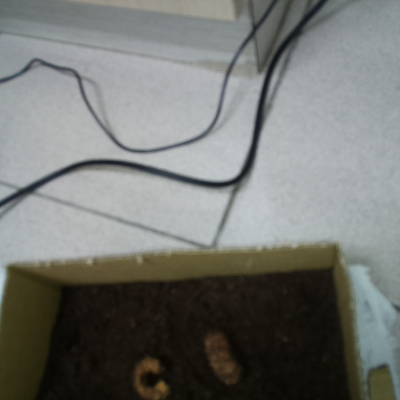eggs: (194, 326, 249, 392), (125, 349, 173, 400)
